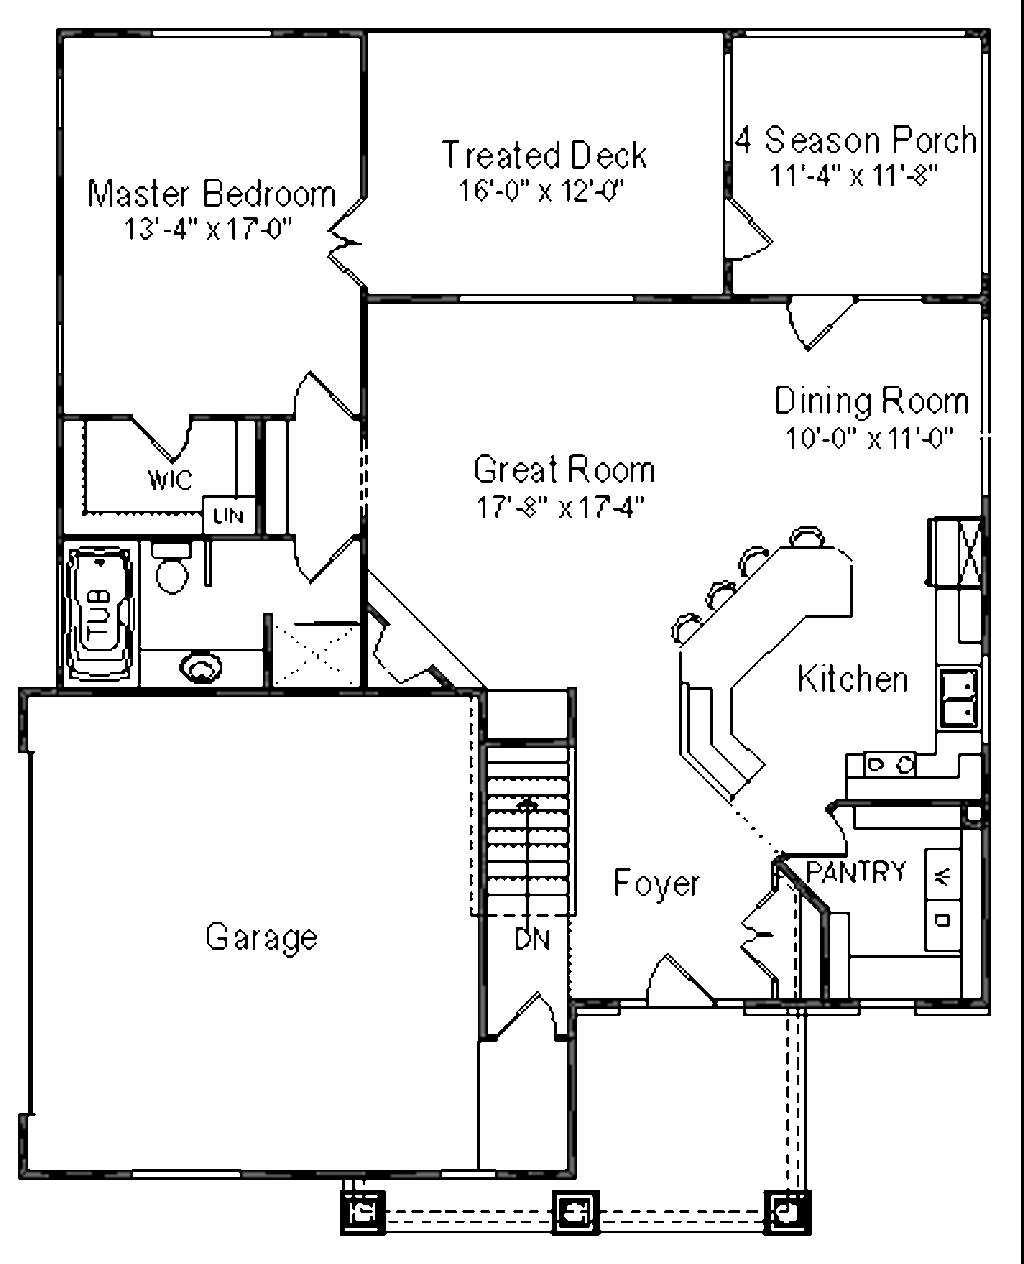door: (739, 866, 820, 993), (280, 355, 378, 443), (266, 526, 360, 596), (768, 285, 858, 358), (483, 993, 571, 1064), (324, 189, 383, 291), (116, 403, 201, 472), (639, 949, 722, 1016), (708, 183, 772, 264)
kitchen_bar: (645, 485, 862, 807)
large_sink: (139, 530, 222, 612)
small_sink: (145, 643, 274, 693)
stairs: (466, 682, 591, 972)
twin_sink: (912, 668, 987, 732)
window: (443, 282, 656, 318), (126, 1158, 255, 1189), (149, 20, 289, 47), (45, 58, 82, 139), (445, 1157, 516, 1191)
